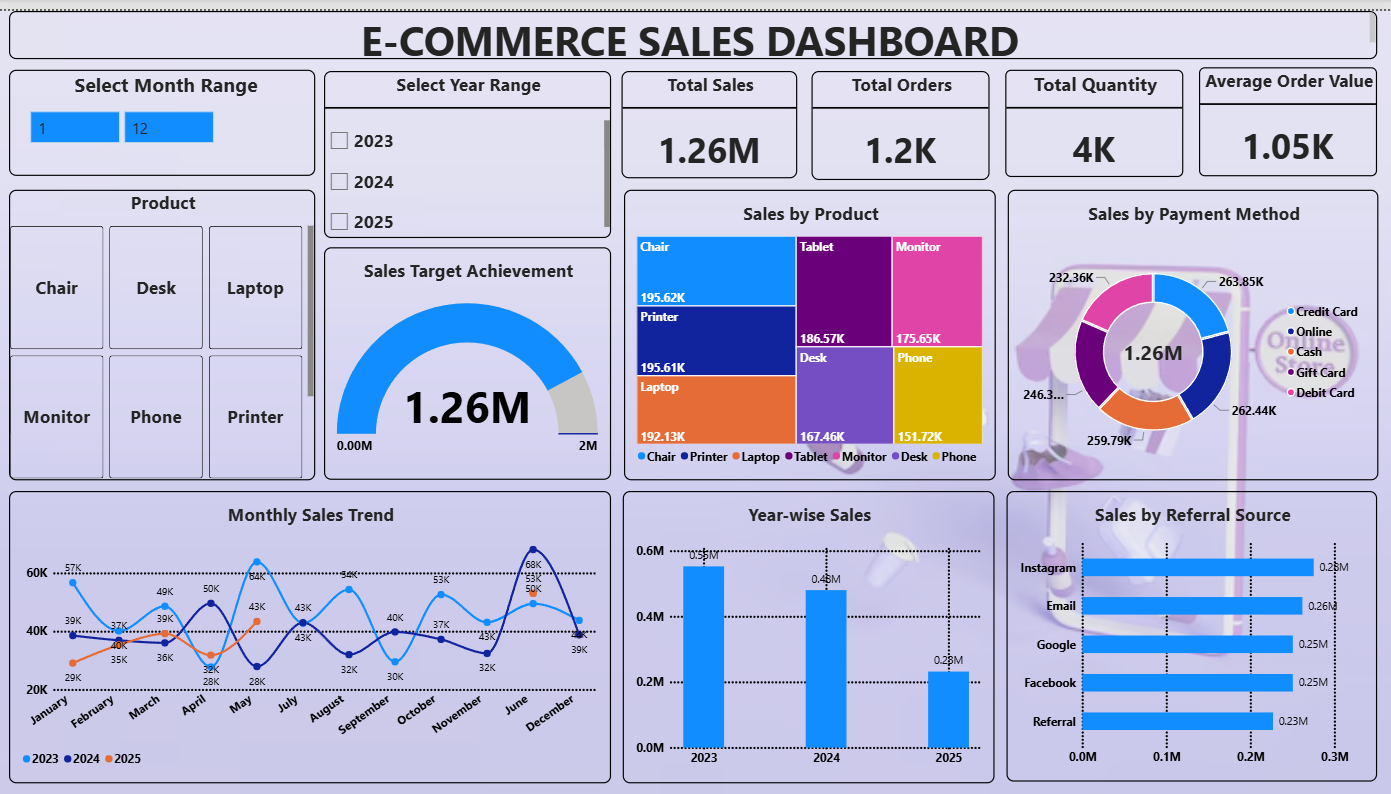

The dashboard page shown, as its layout file describes it:
{"tool":"powerbi","page":{"name":"Page 1","canvas":[1920,1080],"ordinal":0},"visuals":[{"type":"cardVisual","title":"Total Sales","fields":{"Data":["Sum(data_analytics_intership pdc.TotalPrice)"]},"box":[858.1,82,242.4,148.3],"z":0},{"type":"cardVisual","title":"Total Orders","fields":{"Data":["Count(data_analytics_intership pdc.OrderID)"]},"box":[1121.5,82,245.9,150],"z":1000},{"type":"cardVisual","title":"Total Quantity","fields":{"Data":["Sum(data_analytics_intership pdc.Quantity)"]},"box":[1388.4,80.2,245.9,148.3],"z":2000},{"type":"lineChart","title":"Monthly Sales Trend","fields":{"Y":["Sum(data_analytics_intership pdc.TotalPrice)"],"Series":["data_analytics_intership pdc.Year"],"Category":["data_analytics_intership pdc.Month "]},"box":[14,662.8,830.2,402.9],"z":3000},{"type":"donutChart","title":"Sales by Payment Method","fields":{"Category":["data_analytics_intership pdc.PaymentMethod"],"Y":["Sum(data_analytics_intership pdc.TotalPrice)"]},"box":[1391.9,245.9,511,401.2],"z":4000},{"type":"cardVisual","title":"Average Order Value","fields":{"Data":["Avg(data_analytics_intership pdc.TotalPrice)"]},"box":[1655.2,76.7,245.9,150],"z":5000},{"type":"textbox","box":[14,0,1887.2,66.3],"z":6000},{"type":"clusteredColumnChart","title":"Year-wise Sales","fields":{"Y":["Sum(data_analytics_intership pdc.TotalPrice)"],"Category":["data_analytics_intership pdc.Year"]},"box":[860.8,662.8,512.8,402.9],"z":7000},{"type":"clusteredBarChart","title":"Sales by Referral Source","fields":{"Category":["data_analytics_intership pdc.ReferralSource"],"Y":["Sum(data_analytics_intership pdc.TotalPrice)"]},"box":[1390.1,662.8,511,401.2],"z":8000},{"type":"gauge","title":"Sales Target Achievement","fields":{"Y":["Sum(data_analytics_intership pdc.TotalPrice)"],"TargetValue":["data_analytics_intership pdc.Sales Target"],"MaxValue":["data_analytics_intership pdc.Sales Target"]},"box":[448.3,326.2,395.9,320.9],"z":9000},{"type":"treemap","title":"Sales by Product","fields":{"Group":["data_analytics_intership pdc.Product"],"Values":["Sum(data_analytics_intership pdc.TotalPrice)"]},"box":[861.6,245.9,512.8,401.2],"z":10000},{"type":"advancedSlicerVisual","fields":{"Values":["data_analytics_intership pdc.Product"]},"box":[14,245.9,422.1,401.2],"z":11000},{"type":"slicer","title":"Select Month Range","fields":{"Values":["data_analytics_intership pdc.Month Number"]},"box":[14,80.2,422.1,146.5],"z":12000},{"type":"slicer","title":"Select Year Range","fields":{"Values":["data_analytics_intership pdc.Year"]},"box":[448.3,82,395.9,230.2],"z":13000}]}

Visuals, with their boxes in screenshot pixels (x1, y1, x2, y2), scaled from the page's 1920x1080 canvas onto the 1391x794 screenshot:
"Total Sales" cardVisual: box=[622, 60, 797, 169]
"Total Orders" cardVisual: box=[813, 60, 991, 171]
"Total Quantity" cardVisual: box=[1006, 59, 1184, 168]
"Monthly Sales Trend" lineChart: box=[10, 487, 612, 783]
"Sales by Payment Method" donutChart: box=[1008, 181, 1379, 476]
"Average Order Value" cardVisual: box=[1199, 56, 1377, 167]
textbox: box=[10, 0, 1377, 49]
"Year-wise Sales" clusteredColumnChart: box=[624, 487, 995, 783]
"Sales by Referral Source" clusteredBarChart: box=[1007, 487, 1377, 782]
"Sales Target Achievement" gauge: box=[325, 240, 612, 476]
"Sales by Product" treemap: box=[624, 181, 996, 476]
advancedSlicerVisual - data_analytics_intership pdc.Product: box=[10, 181, 316, 476]
"Select Month Range" slicer: box=[10, 59, 316, 167]
"Select Year Range" slicer: box=[325, 60, 612, 230]
